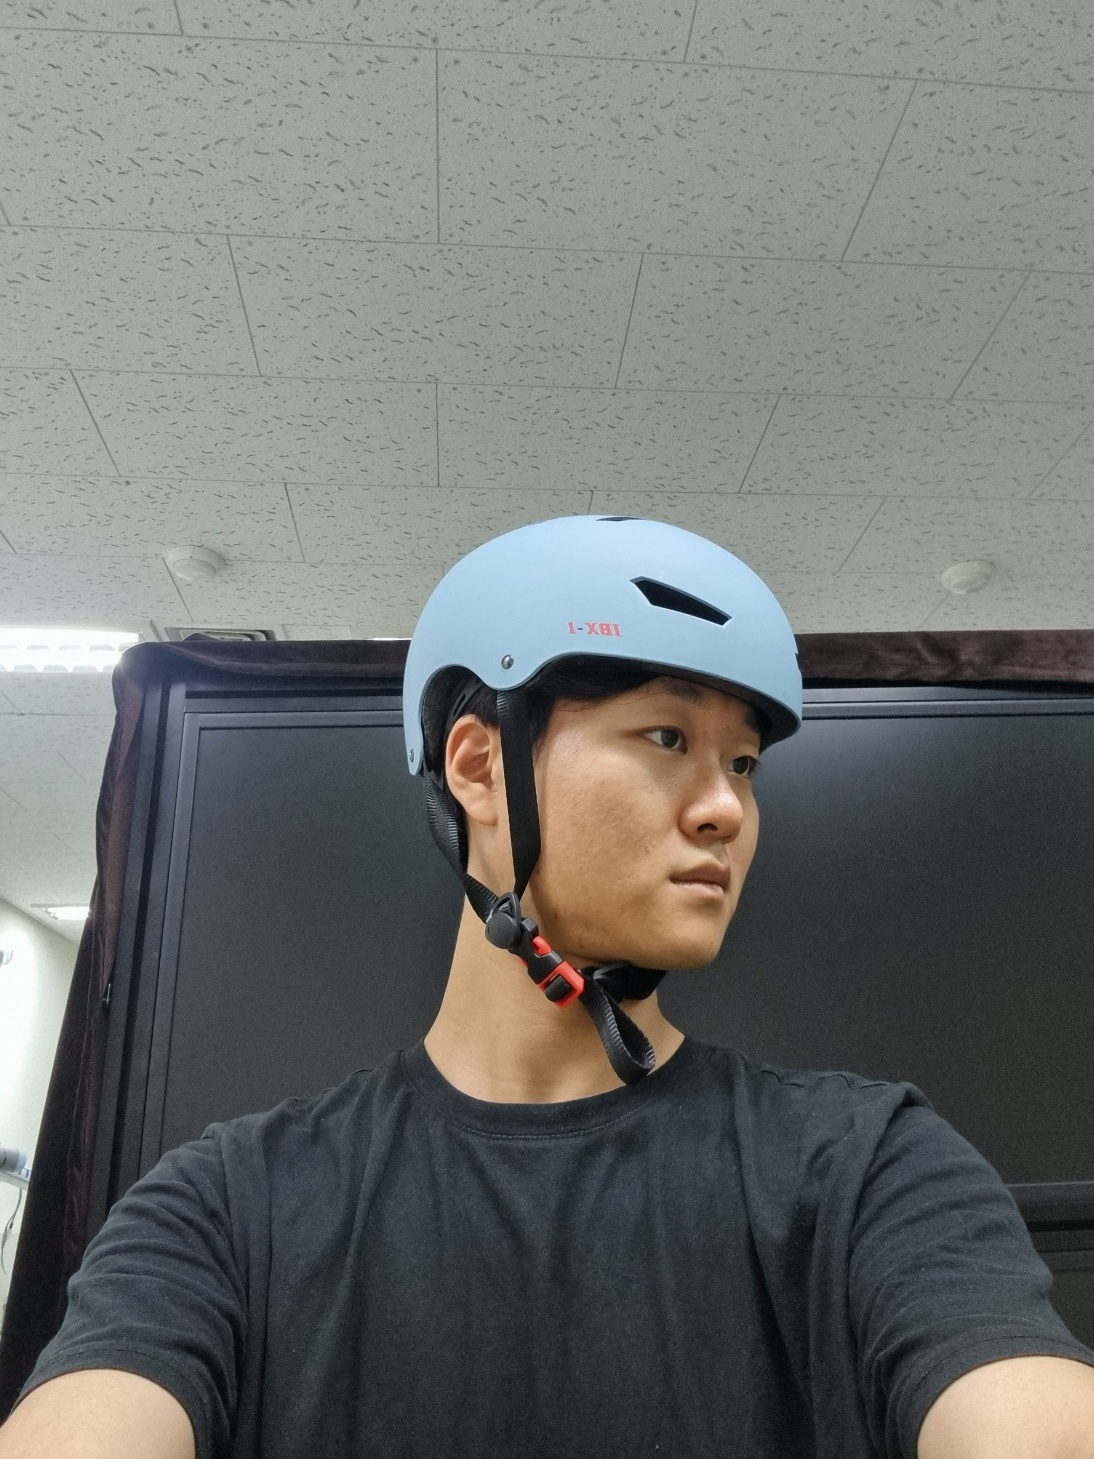Helmet: (360, 456, 823, 1075)
